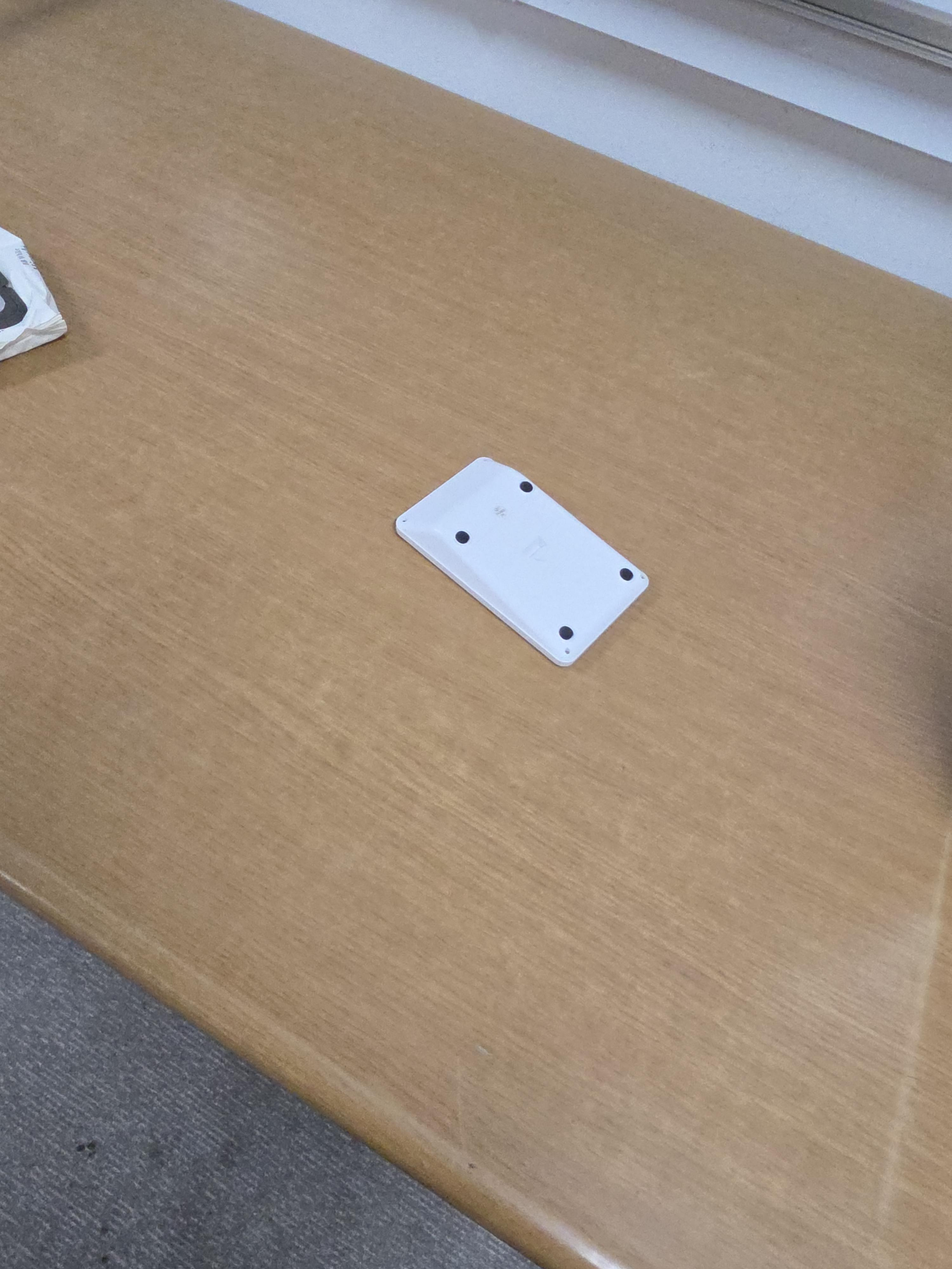calculator: (395, 457, 650, 667)
tissue: (0, 226, 68, 361)
